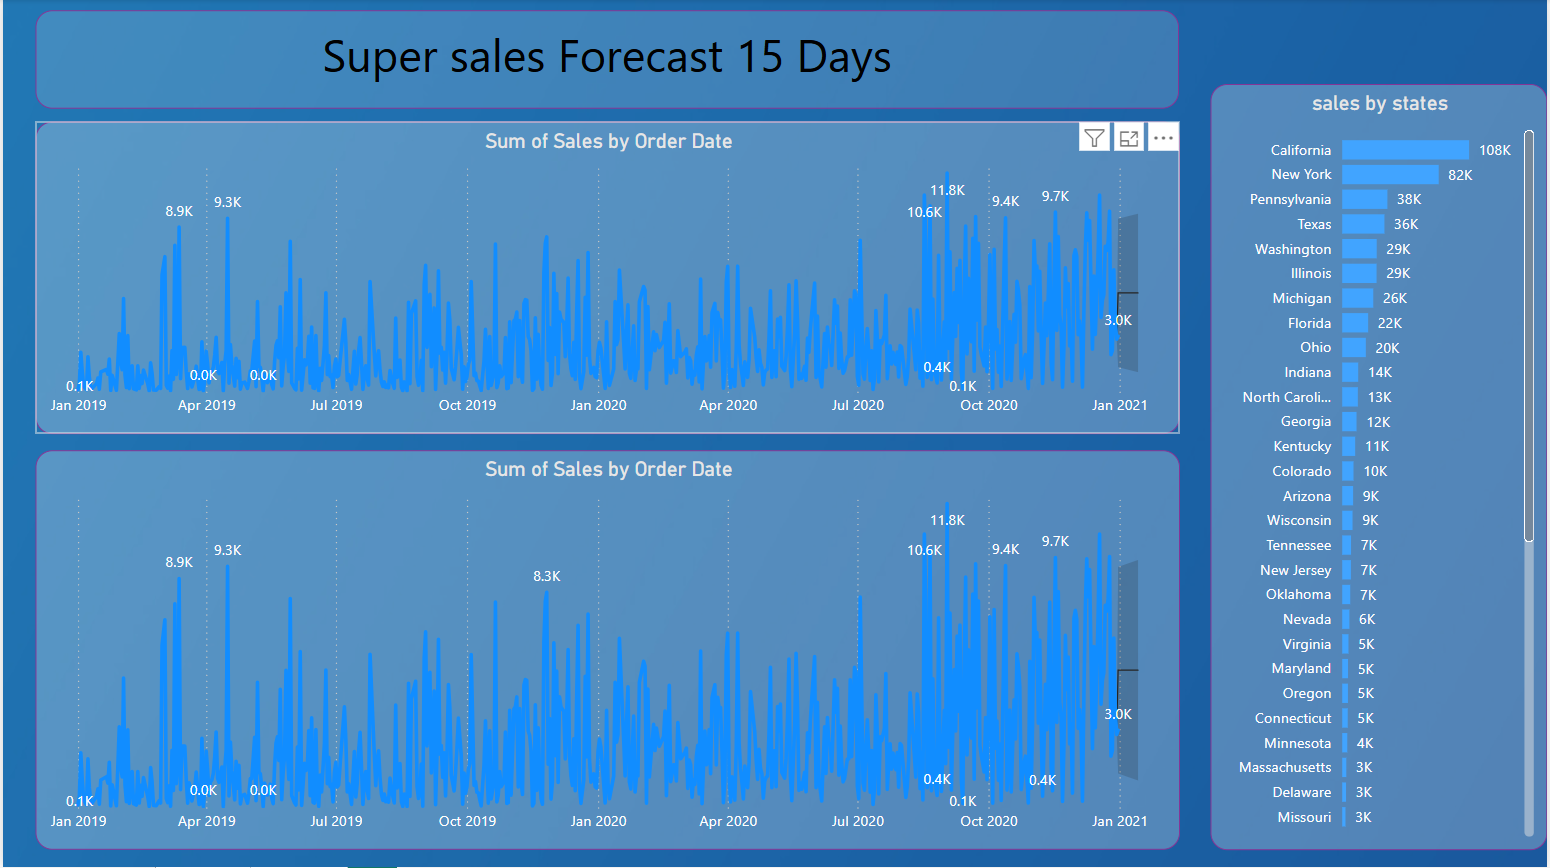

What the dashboard file says about the page in this screenshot:
{"tool":"powerbi","page":{"name":"Page 2","canvas":[1280,720],"ordinal":1},"visuals":[{"type":"lineChart","fields":{"Y":["Sum(SuperStore_Sales_Dataset.Sales)"],"Category":["SuperStore_Sales_Dataset.Order Date"]},"box":[26.7,101.2,948.8,259.3],"z":0},{"type":"lineChart","fields":{"Y":["Sum(SuperStore_Sales_Dataset.Sales)"],"Category":["SuperStore_Sales_Dataset.Order Date"]},"box":[26.7,374.4,948.8,331.4],"z":1000},{"type":"clusteredBarChart","title":"sales  by states","fields":{"Category":["SuperStore_Sales_Dataset.State"],"Y":["Sum(SuperStore_Sales_Dataset.Sales)"]},"box":[1001.2,70.9,279.1,634.9],"z":2000},{"type":"textbox","box":[26.9,9.3,948.2,81.9],"z":3000}]}

Visuals, with their boxes in screenshot pixels (x1, y1, x2, y2), scaled from the page's 1280x720 canvas onto the 1550x868 screenshot:
lineChart - Sum(SuperStore_Sales_Dataset.Sales) x SuperStore_Sales_Dataset.Order Date: {"left": 32, "top": 122, "right": 1181, "bottom": 435}
lineChart - Sum(SuperStore_Sales_Dataset.Sales) x SuperStore_Sales_Dataset.Order Date: {"left": 32, "top": 451, "right": 1181, "bottom": 851}
"sales  by states" clusteredBarChart: {"left": 1212, "top": 85, "right": 1549, "bottom": 851}
textbox: {"left": 33, "top": 11, "right": 1181, "bottom": 110}
